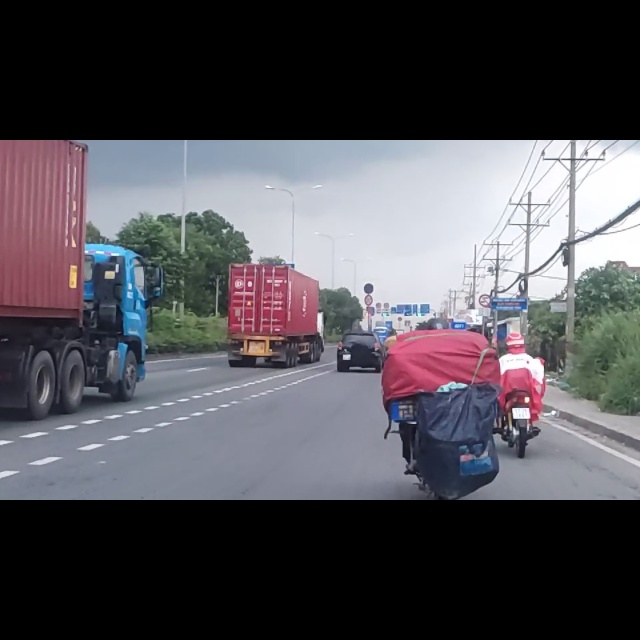bien_cam: (479, 273, 491, 299), (363, 255, 375, 273)
